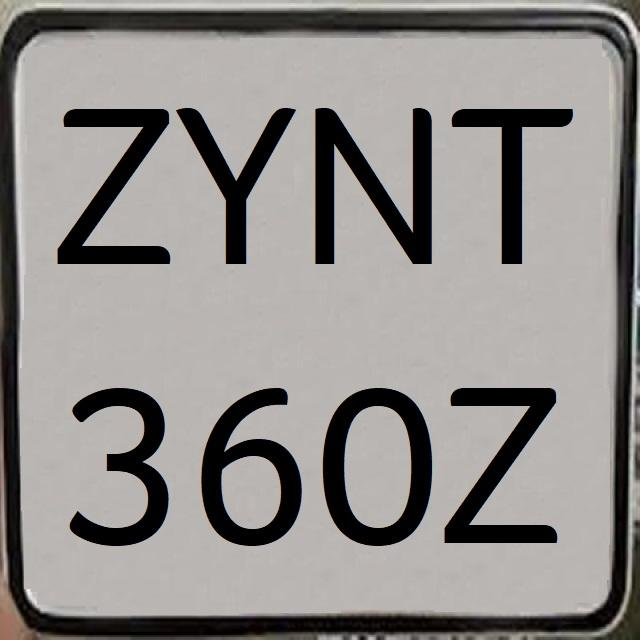0: (320, 363, 431, 547)
3: (62, 369, 178, 563)
N: (312, 82, 442, 276)
T: (453, 83, 571, 289)
Y: (176, 93, 290, 282)
Z: (54, 86, 178, 282), (447, 361, 567, 555)
